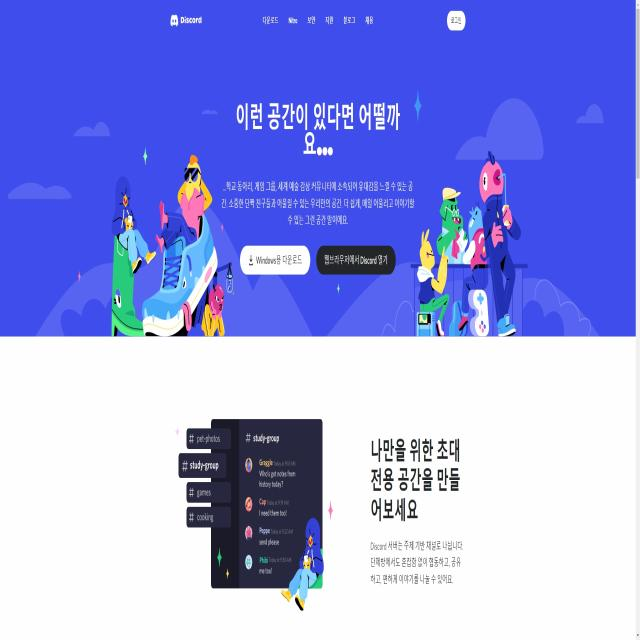menu-bar: (443, 10, 472, 34)
tab-bar: (260, 8, 379, 33)
